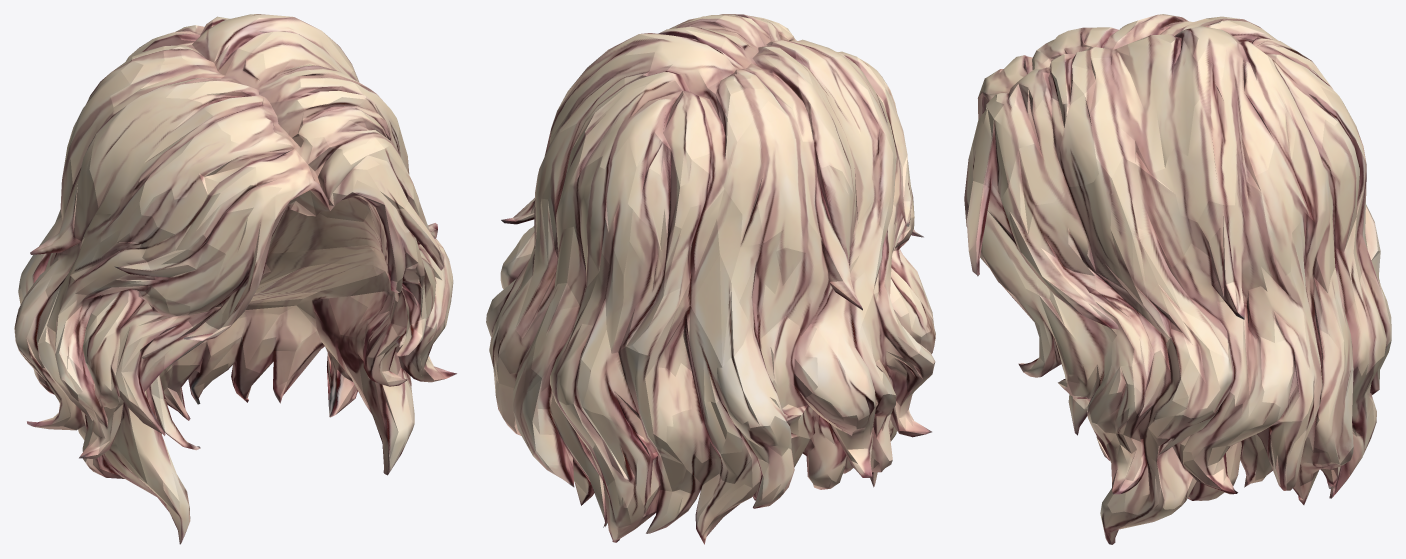
Rendered from fennal_m-ondules.glb.
3 views of the same model, side by side, from view 1: azimuth 30°, elevation 25°; view 2: azimuth 150°, elevation 25°; view 3: azimuth 270°, elevation 25° (orthographic). The views are drawn at different scales.
Visible parts, largest first — view 1: geometry_0; view 2: geometry_0; view 3: geometry_0.
Boxes of the visible parts, <box> form: geometry_0: <box>14,14,456,544</box>; geometry_0: <box>486,14,935,544</box>; geometry_0: <box>964,14,1391,544</box>.
Size of the model in its own units: 1.73 by 1.9 by 1.58.
1 material, 1 textured.
